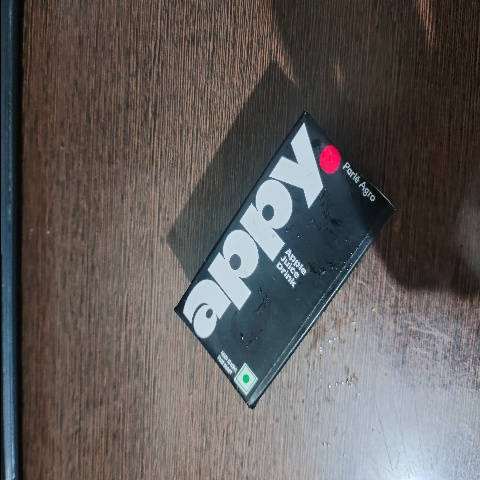appy: (137, 104, 394, 409)
